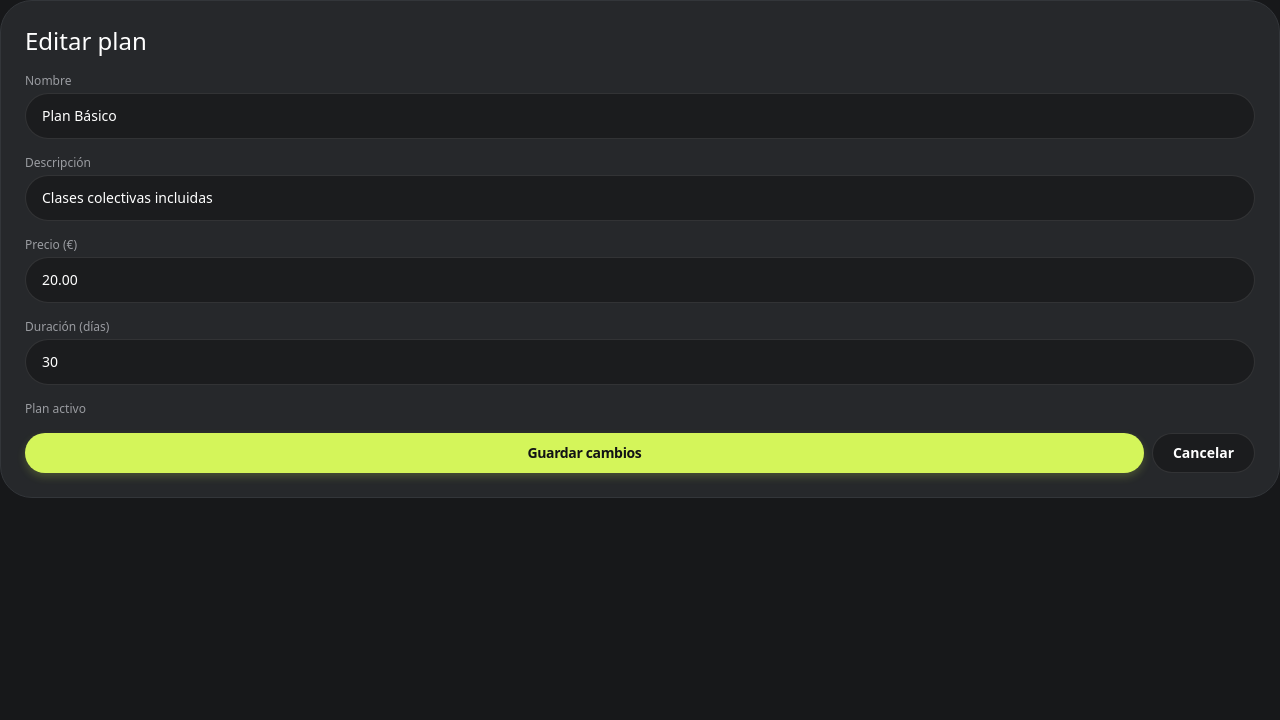
Test: PlanEditForm › no envía con duración inválida y muestra el mensaje
The width and height of the screenshot is (1280, 720).
Replace the text in the number field labelled "Duración (días)" with "0" at (640, 362), box [25,339,1255,385]
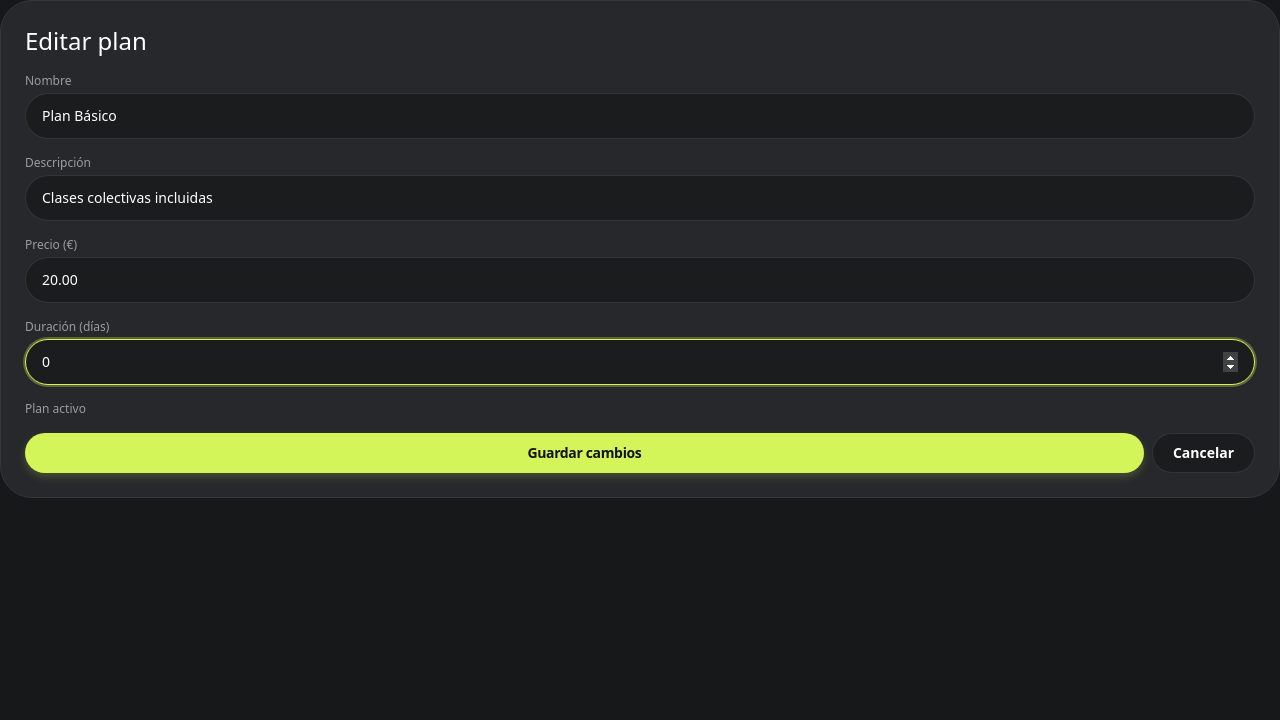
Click the button "Guardar cambios" at (584, 453), box [25,433,1144,473]
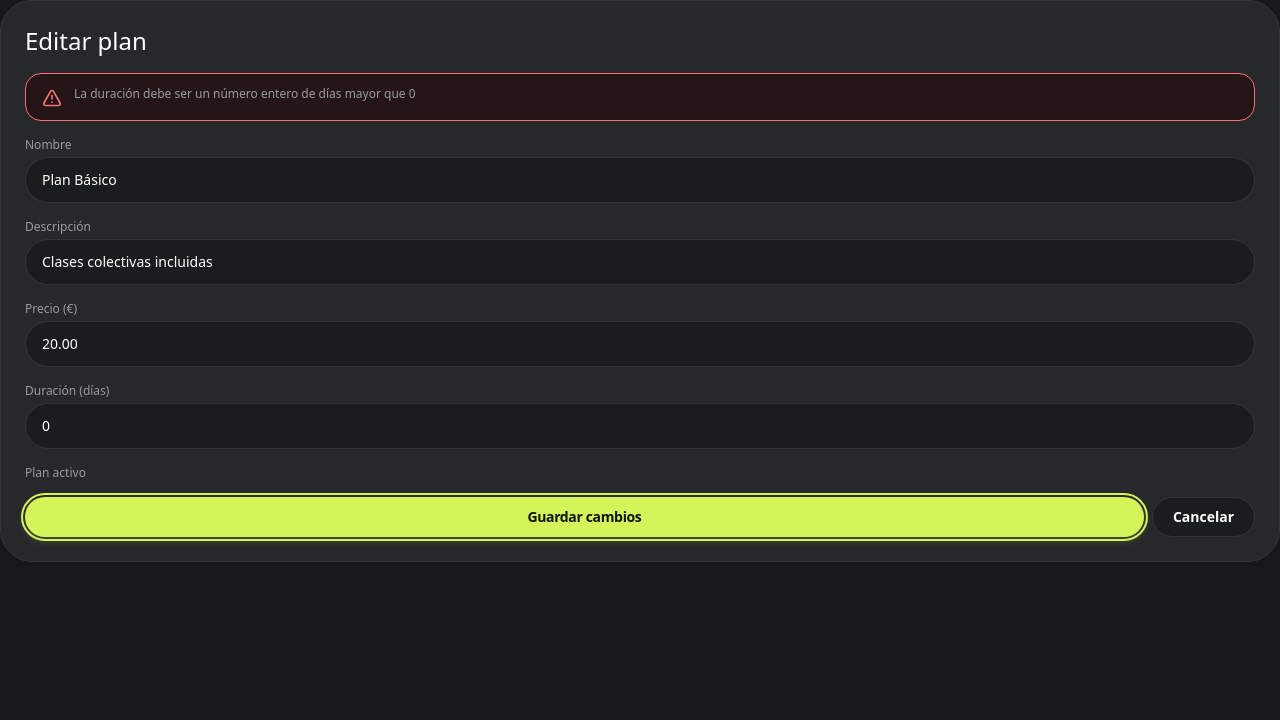
Now the text "La duración debe ser un número entero de días mayor que 0" is shown, box [74,85,416,102]
